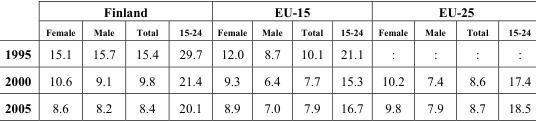table: (4, 4, 530, 114)
table column: (37, 4, 83, 114), (370, 4, 415, 114), (124, 4, 168, 114), (209, 4, 253, 114), (455, 4, 497, 114), (83, 4, 124, 114), (168, 4, 209, 114), (290, 4, 331, 114), (415, 4, 455, 114), (331, 4, 370, 114), (253, 4, 290, 114), (4, 4, 37, 114), (497, 4, 530, 114)
table column header: (4, 4, 530, 42)
table row: (4, 67, 530, 94), (4, 42, 530, 67), (4, 22, 530, 42), (4, 94, 530, 114), (4, 4, 530, 22)
table spanning cell: (37, 4, 209, 22), (209, 4, 370, 22), (370, 4, 530, 22)
